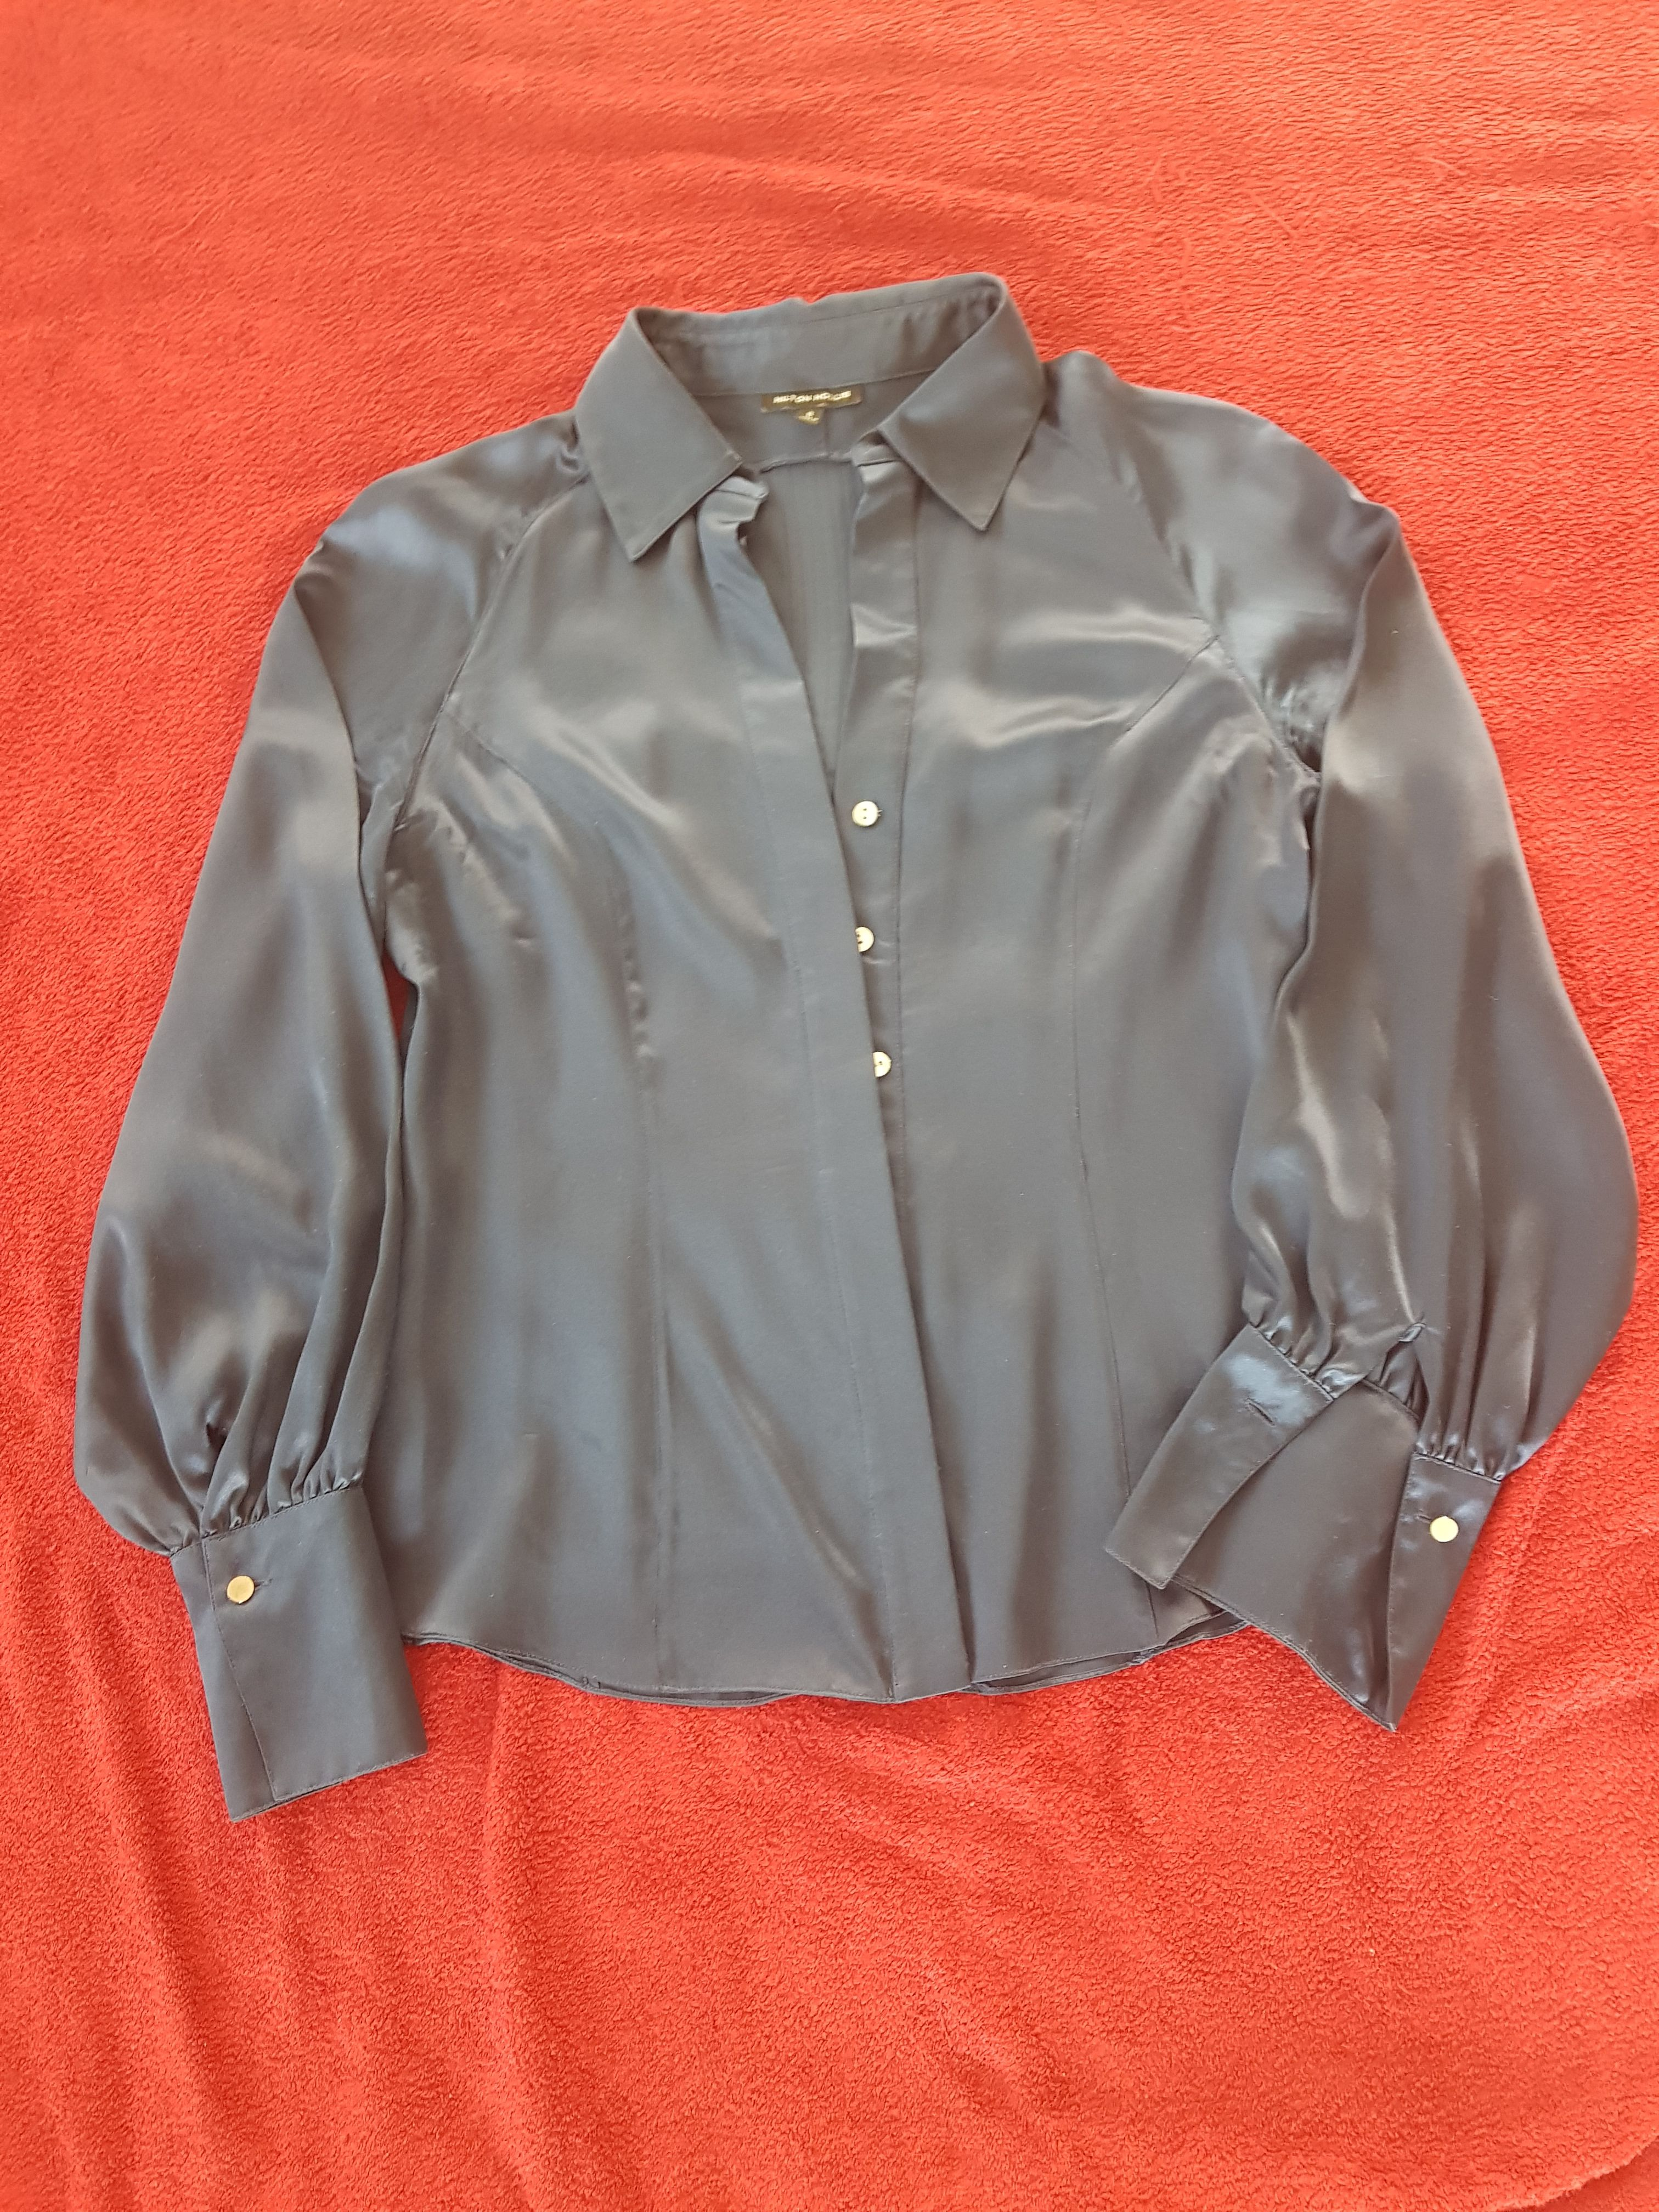clothes: (89, 254, 1624, 1796)
